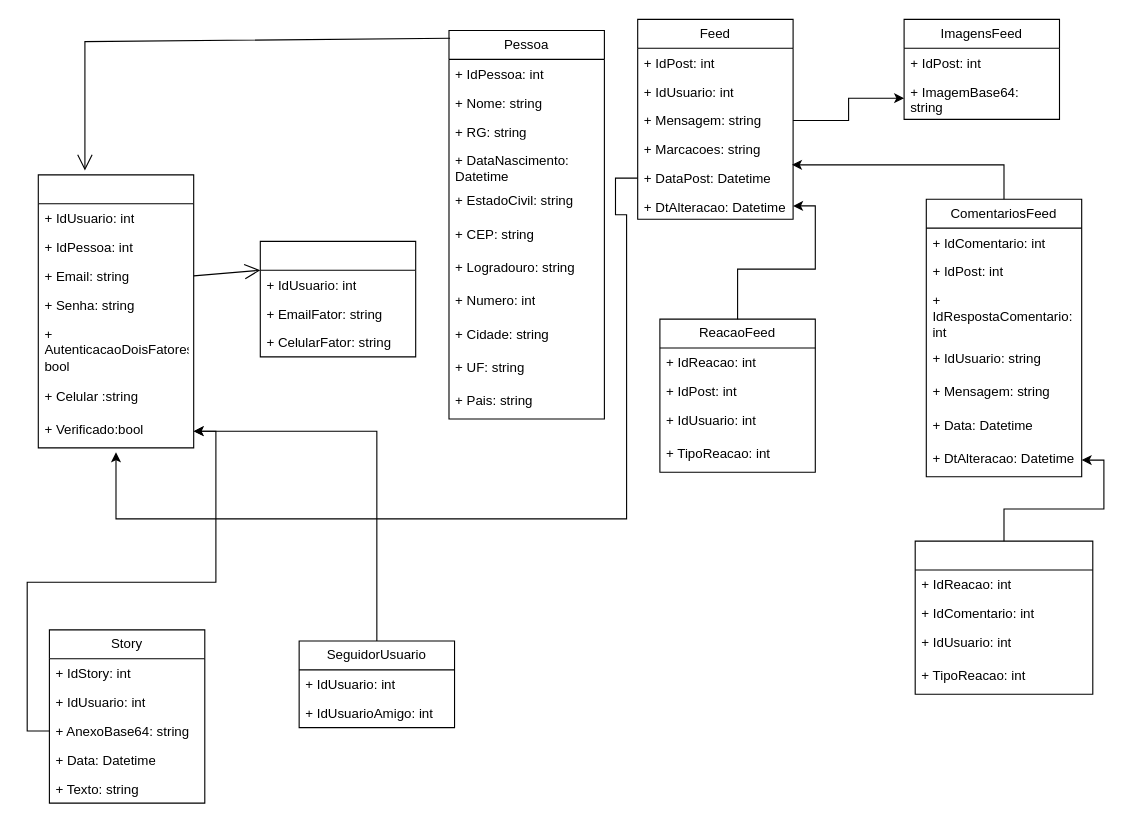
The diagram is 1132 pixels wide and 826 high, and some of its shapes have lost their labels. The shapes that lost their labels are listed below. From the top down, each one's box as (x1, y1, x2, y2) in pixels, then its label:
(37, 174, 194, 448): ContaUsuario
(259, 240, 416, 357): DoisFatores
(914, 540, 1093, 694): ReacaoComentarioFeed
